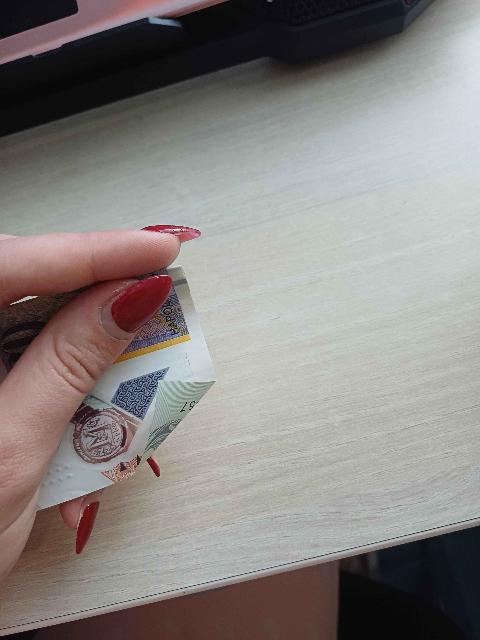note: (25, 282, 212, 516)
